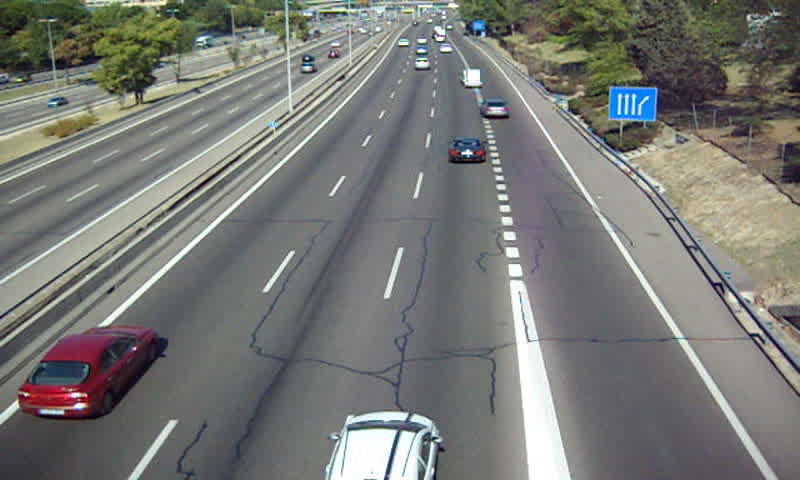car: (17, 325, 157, 418), (449, 138, 486, 164), (482, 101, 508, 119), (414, 57, 430, 70)
van: (462, 68, 481, 86)
